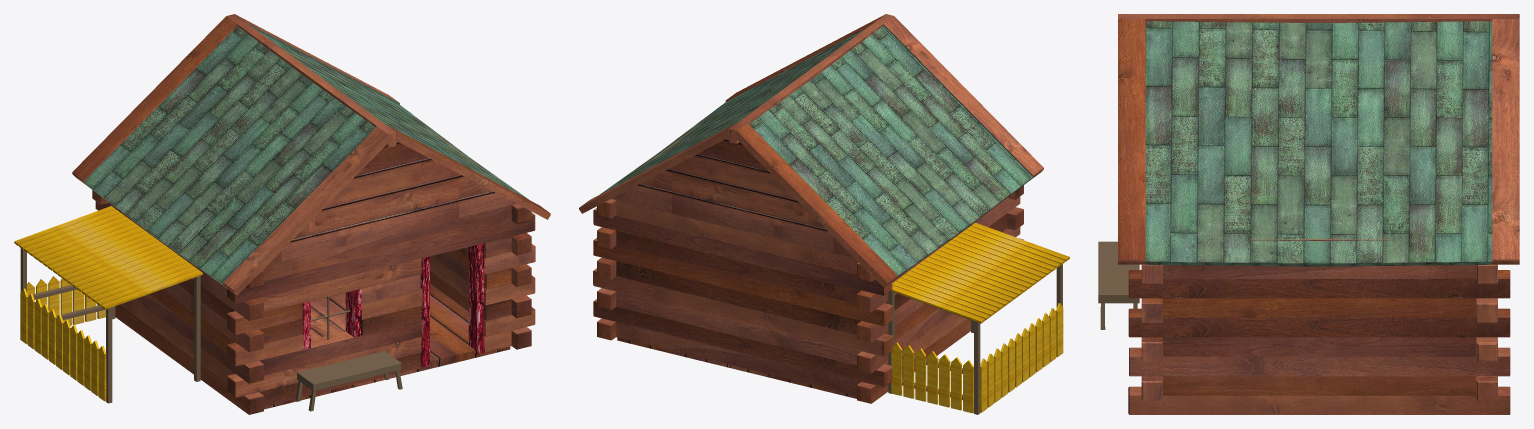
The model's file is Cabana_Floresta.fbx.
The picture shows the model from 3 angles, left to right: view 1: azimuth 30°, elevation 25°; view 2: azimuth 150°, elevation 25°; view 3: azimuth 270°, elevation 25°; orthographic projection. The views are drawn at different scales.
Visible parts, largest first — view 1: TetoCabana.001, Parede, SuporteTeto.003, TetoCercado.001, Parede.001, TetoCabana.000, Piso_Cabana, Cerca.009, Parede.003, Banco, SuporteTeto, Cerca.011 (+2 smaller); view 2: TetoCabana.001, Parede.002, SuporteTeto.001, TetoCercado.001, Parede.001, TetoCabana.000, Cerca.009, Cerca.011, Parede.003, SuporteTeto, Piso_Cabana, SuporteCercado.001 (+1 smaller); view 3: TetoCabana.000, Parede.003, SuporteTeto, Parede.002, Parede, Banco.
Boxes of the visible parts, x1,y1,x2,y2 form: TetoCabana.001: [72, 16, 388, 295]; Parede: [227, 205, 535, 406]; SuporteTeto.003: [268, 141, 516, 264]; TetoCercado.001: [14, 206, 202, 309]; Parede.001: [95, 201, 263, 414]; TetoCabana.000: [235, 14, 550, 219]; Piso_Cabana: [264, 283, 510, 409]; Cerca.009: [20, 288, 106, 401]; Parede.003: [428, 129, 531, 349]; Banco: [295, 351, 402, 411]; SuporteTeto: [226, 14, 396, 147]; Cerca.011: [27, 276, 105, 325]; TetoCabana.001: [737, 16, 1043, 287]; Parede.002: [593, 200, 892, 395]; SuporteTeto.001: [611, 137, 853, 257]; TetoCercado.001: [891, 222, 1069, 323]; Parede.001: [857, 196, 1020, 403]; TetoCabana.000: [579, 14, 885, 213]; Cerca.009: [979, 303, 1063, 412]; Cerca.011: [891, 342, 973, 413]; Parede.003: [597, 124, 700, 340]; SuporteTeto: [729, 14, 893, 143]; Piso_Cabana: [617, 337, 856, 398]; SuporteCercado.001: [974, 321, 980, 414]; TetoCabana.000: [1118, 19, 1519, 266]; Parede.003: [1128, 239, 1510, 414]; SuporteTeto: [1118, 14, 1519, 22]; Parede.002: [1476, 264, 1497, 400]; Parede: [1141, 264, 1162, 400]; Banco: [1098, 241, 1139, 329].
Size of the model in its own units: 2754 by 1704 by 2055.
